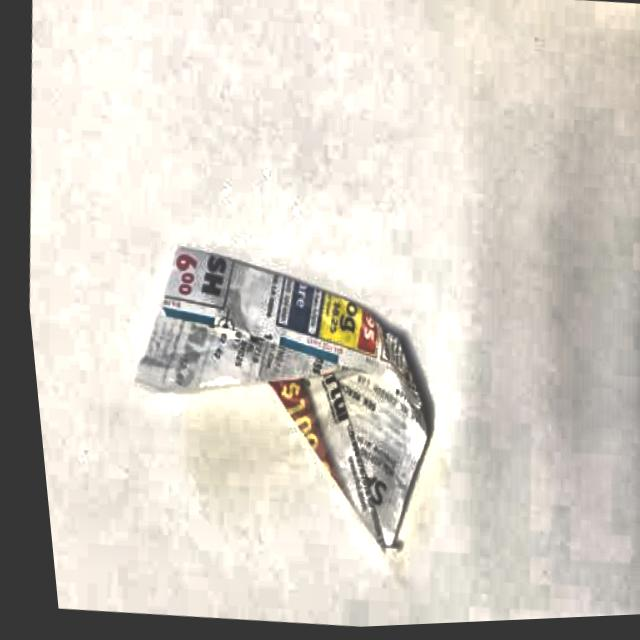Paper: (94, 220, 455, 580)
